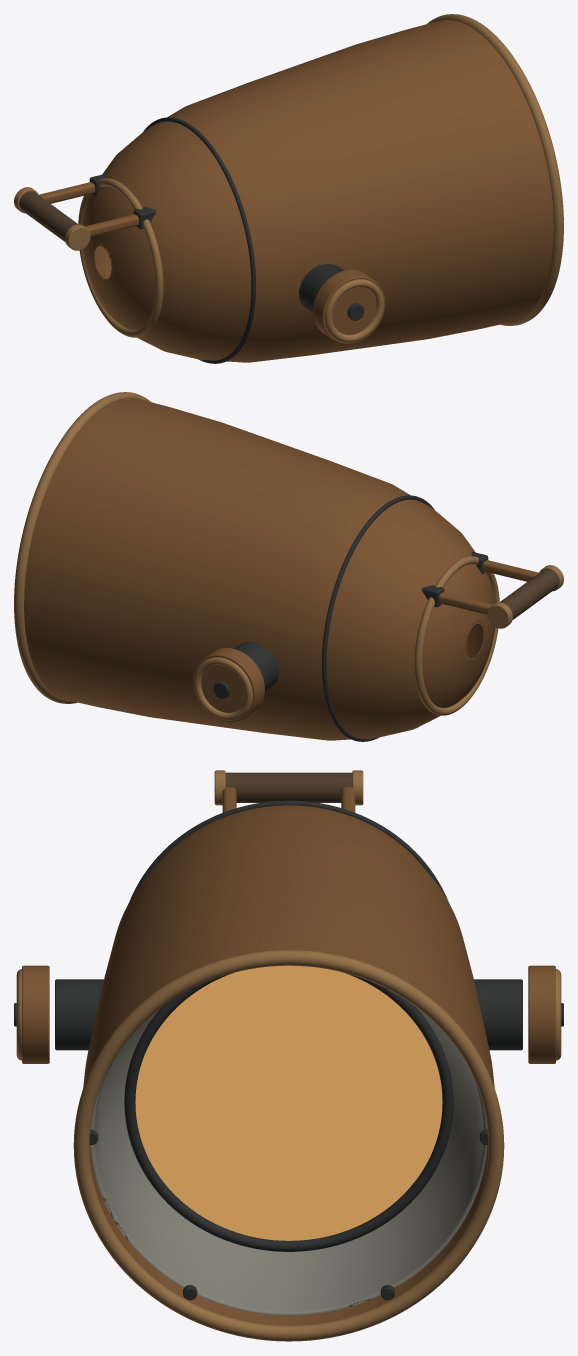
Rendered from SM_DY_LampBody_Source.fbx.
3 renders of one model, top to bottom at view 1: azimuth 30°, elevation 25°; view 2: azimuth 150°, elevation 25°; view 3: azimuth 270°, elevation 25°, orthographic. The views are drawn at different scales.
Visible parts, largest first — view 1: SM_DY_LampBody_Source; view 2: SM_DY_LampBody_Source; view 3: SM_DY_LampBody_Source.
Part boxes in pixels (x1,y1,x2,y2): SM_DY_LampBody_Source: [14, 14, 563, 363]; SM_DY_LampBody_Source: [14, 392, 563, 741]; SM_DY_LampBody_Source: [14, 770, 563, 1341].
Bounding box in the file's own units: 0.695 × 0.877 × 0.544.
